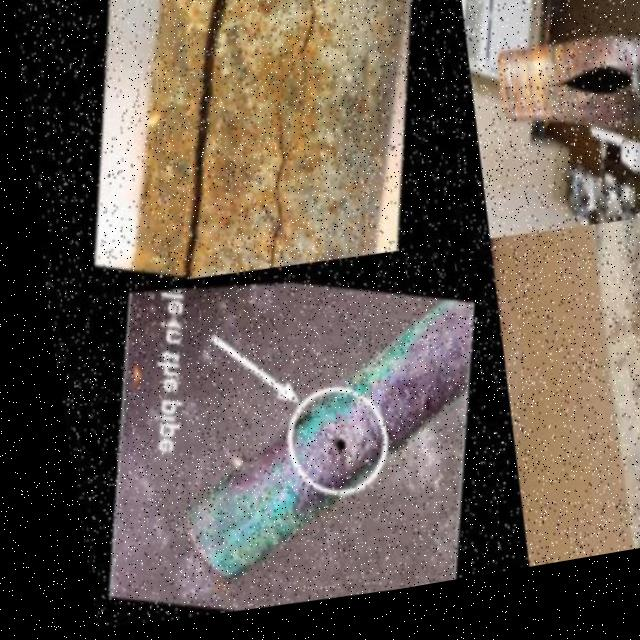crack: (132, 1, 276, 289), (221, 90, 307, 280), (266, 1, 345, 143)
hole: (308, 434, 339, 468)
rupture: (601, 289, 640, 565), (542, 50, 637, 139)
